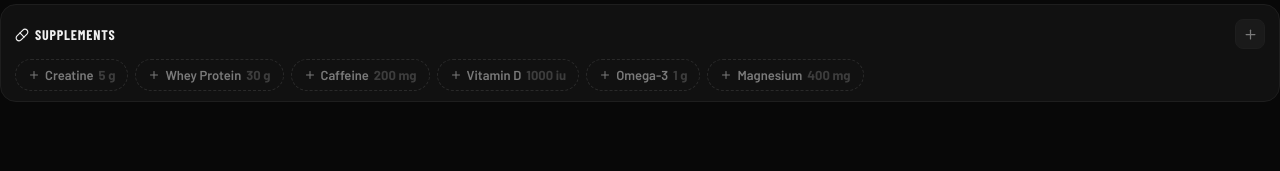
Test: SupplementSection › moves a logged supplement out of the suggestions
Click the button "Creatine 5 g" at (72, 75), box left=15, top=59, right=128, bottom=91
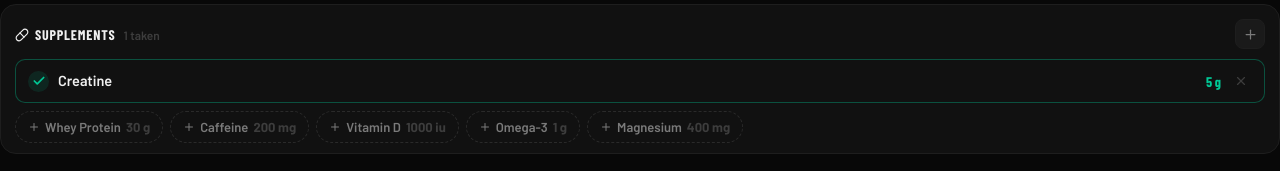
Expected: the number of elements with class "taken" is 1, left=15, top=59, right=1265, bottom=103
